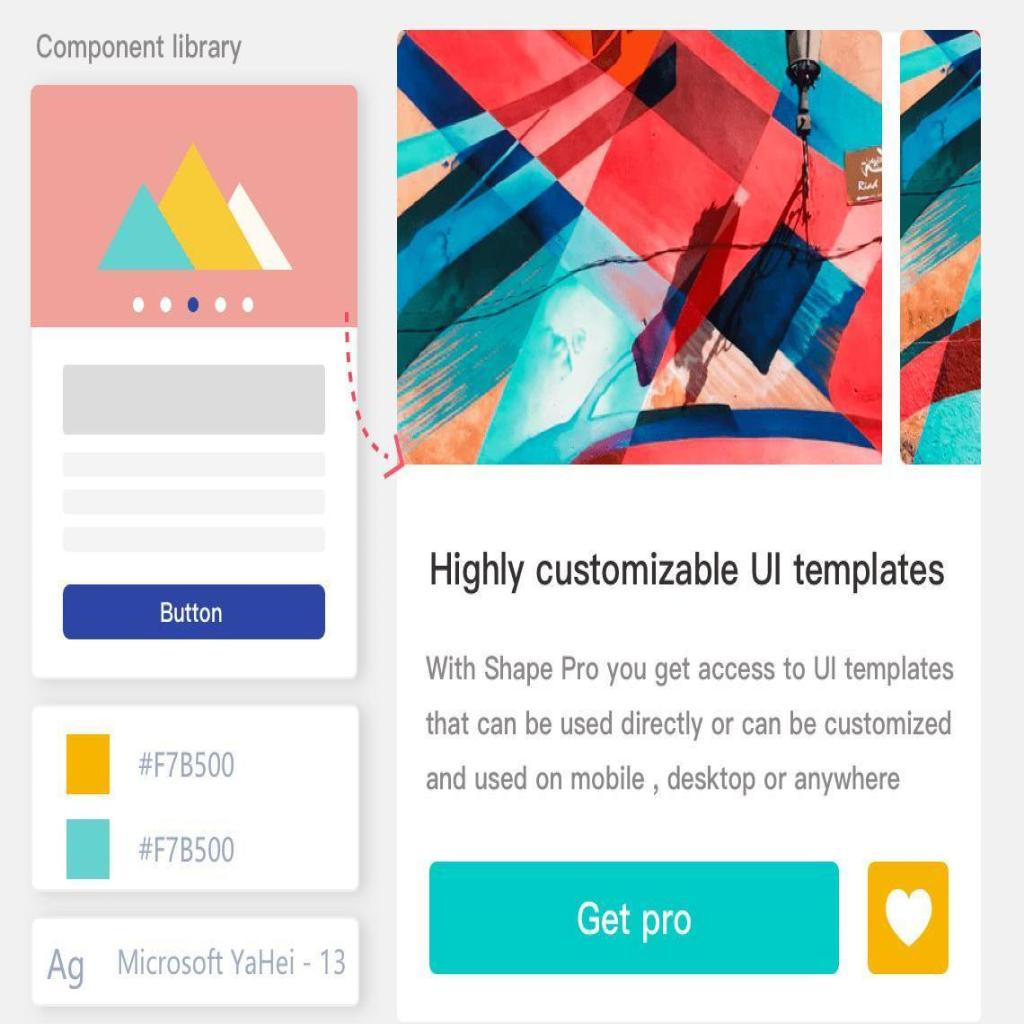button: (426, 856, 841, 972), (61, 583, 329, 643), (865, 853, 952, 978)
